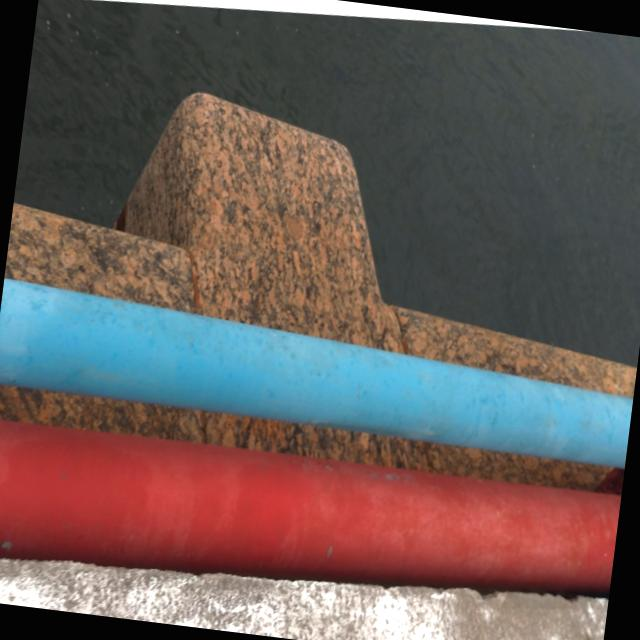gas: (0, 413, 621, 636), (0, 275, 638, 470)
